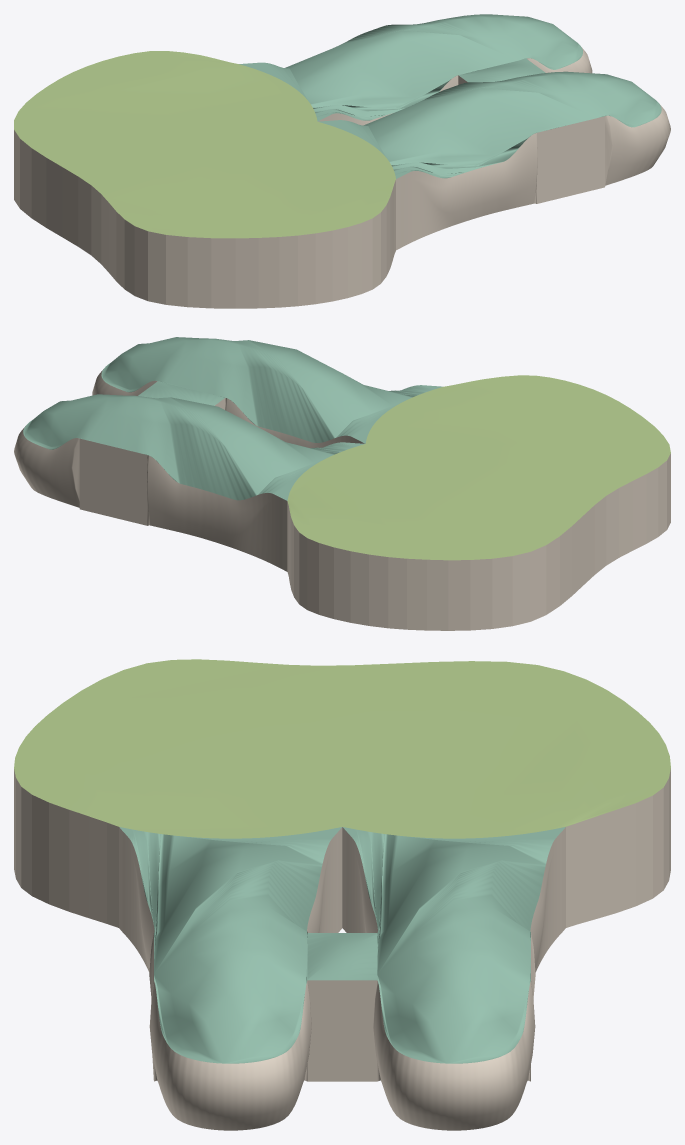
File: loop-source.glb
3 renders of one model, top to bottom at view 1: azimuth 30°, elevation 25°; view 2: azimuth 150°, elevation 25°; view 3: azimuth 270°, elevation 25°, orthographic. The views are drawn at different scales.
Parts seen in each view (by area): view 1: baseline/top, baseline/rounded-coast, seaward-north/top, seaward-south/top, seaward-north/rounded-coast, seaward-north/bank-connection-positive, connection/top, seaward-south/rounded-coast; view 2: baseline/top, baseline/rounded-coast, seaward-north/top, seaward-south/top, seaward-south/rounded-coast, seaward-south/bank-connection-negative, seaward-north/rounded-coast, connection/top; view 3: baseline/top, seaward-north/top, seaward-south/top, baseline/rounded-coast, seaward-north/rounded-coast, seaward-south/rounded-coast, connection/rounded-coast, connection/top.
Part boxes in pixels (x1,y1,x2,y2): baseline/top: (14, 51, 395, 238); baseline/rounded-coast: (14, 130, 395, 308); seaward-north/top: (318, 71, 661, 178); seaward-south/top: (239, 14, 582, 121); seaward-north/rounded-coast: (396, 105, 670, 250); seaward-north/bank-connection-positive: (537, 116, 604, 203); connection/top: (459, 58, 545, 82); seaward-south/rounded-coast: (318, 47, 592, 125); baseline/top: (287, 375, 670, 560); baseline/rounded-coast: (287, 453, 670, 630); seaward-north/top: (101, 337, 442, 443); seaward-south/top: (23, 394, 364, 500); seaward-south/rounded-coast: (14, 426, 287, 571); seaward-south/bank-connection-negative: (79, 438, 147, 525); seaward-north/rounded-coast: (92, 369, 364, 448); connection/top: (138, 381, 224, 405); baseline/top: (14, 659, 670, 838); seaward-north/top: (119, 827, 341, 1063); seaward-south/top: (343, 827, 565, 1063); baseline/rounded-coast: (14, 768, 670, 927); seaward-north/rounded-coast: (119, 827, 342, 1130); seaward-south/rounded-coast: (342, 827, 565, 1130); connection/rounded-coast: (307, 980, 377, 1081); connection/top: (307, 933, 377, 980).
Size of the model in its own units: 8.09 by 1.42 by 5.88.
